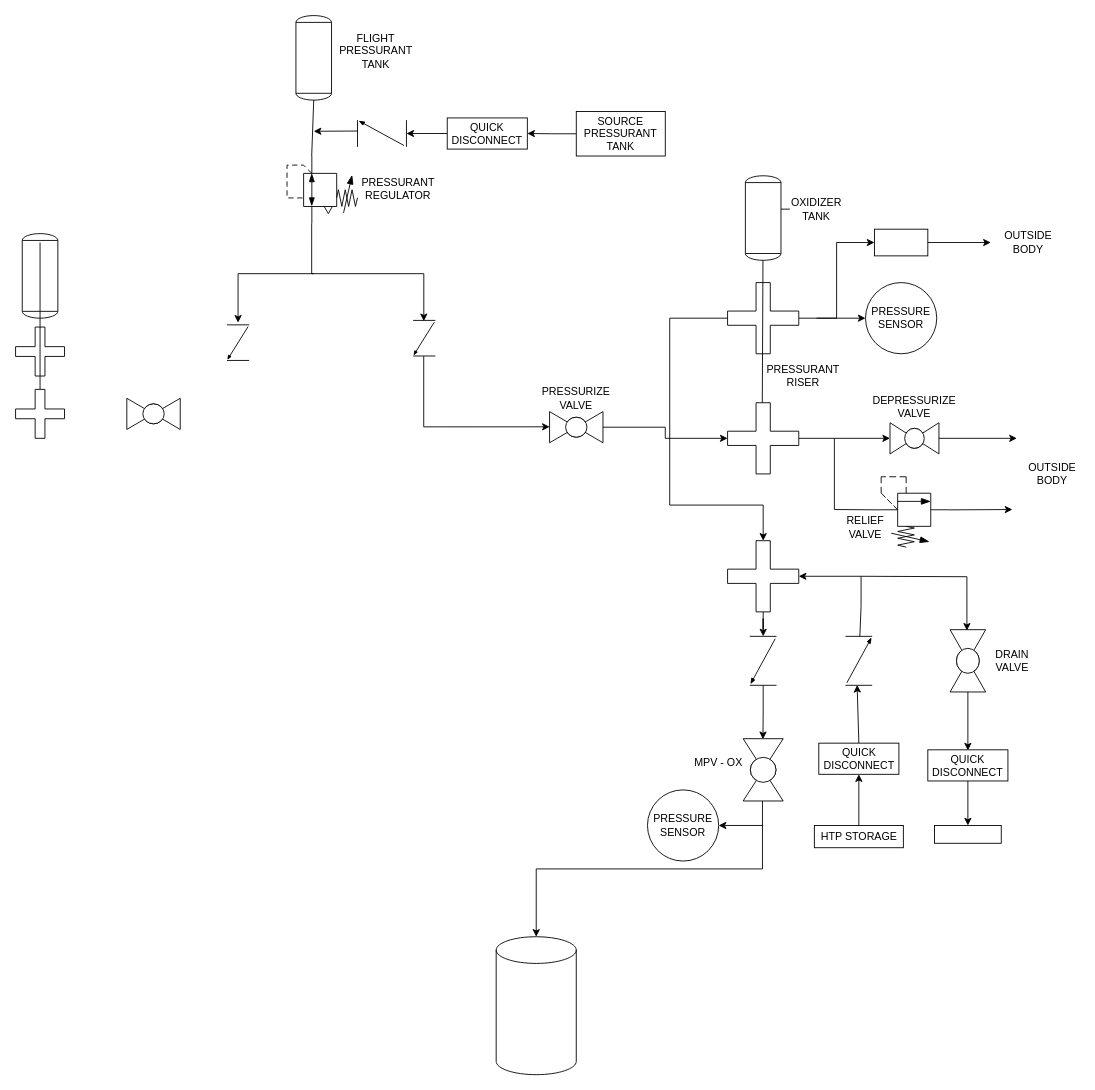
This 1095x1090 diagram has some shape labels left out. The centre of each missing label's shape, as x and y in pixels:
"BURST DISK" belongs at (901,242).
"DUMP TANK" belongs at (967,834).
"ENGINE" belongs at (535,1005).
